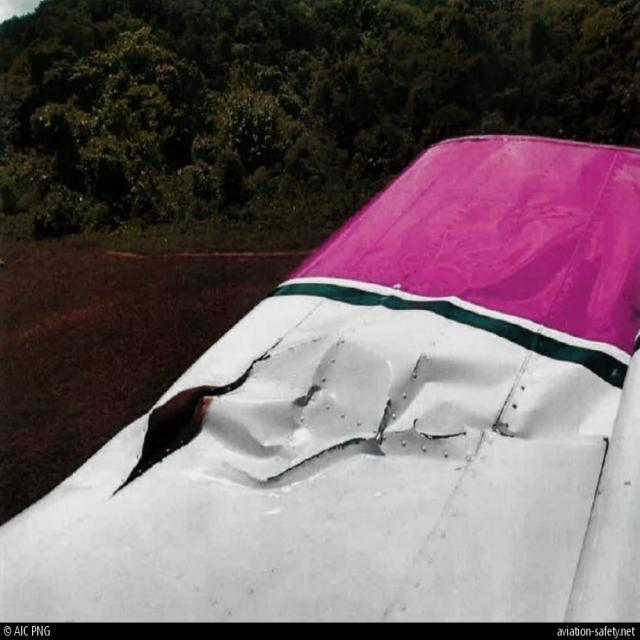crack: (255, 428, 363, 473), (407, 425, 480, 455), (404, 352, 449, 387), (372, 396, 393, 433)
